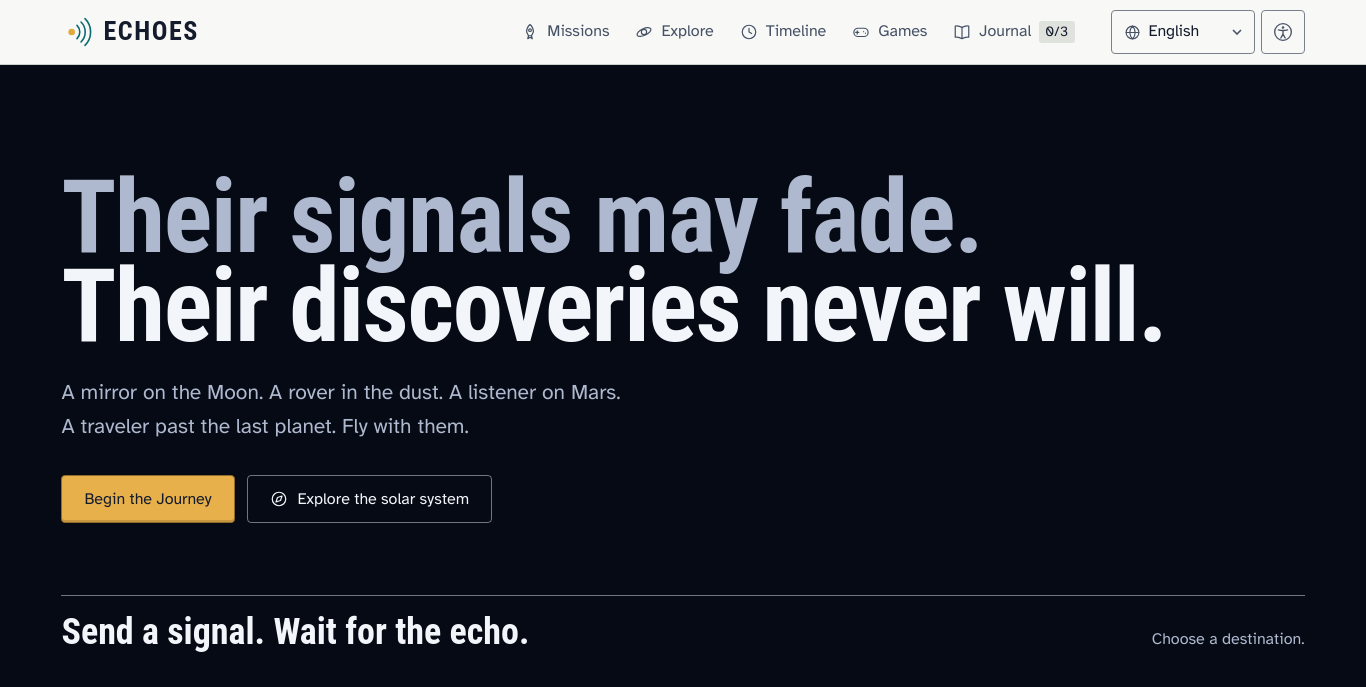
Test: switching language in the app › translates the whole page, sets <html lang> and remembers the choice
Check: the link "Begin the Journey" is shown, box [62,475,235,523]
Select "Русский" in the dropdown named "Language". click: (1197, 32)
box: [1146,11,1248,53]
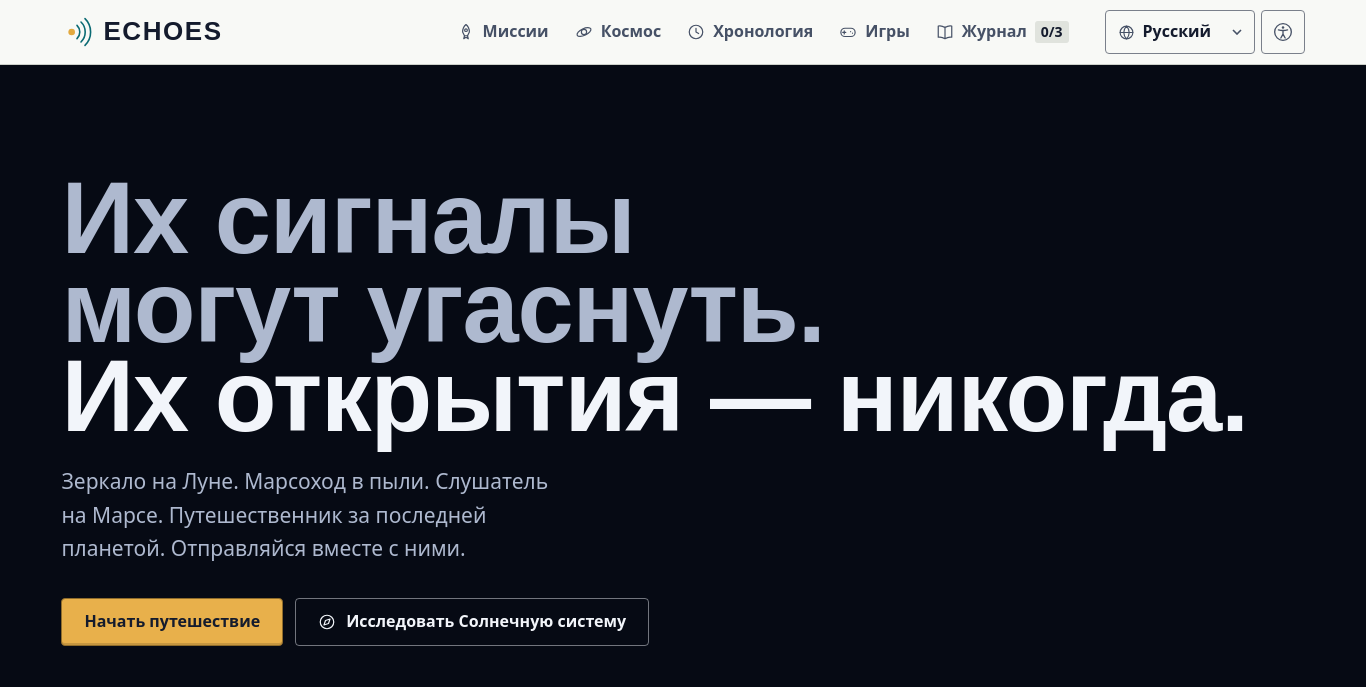
Check: the link "Начать путешествие" is shown, box [62,598,283,646]
Check: the link "Миссии" is shown, box [444,10,561,54]
Select "English" in the dropdown named "Язык". click: (1194, 32)
box: [1140,11,1248,53]
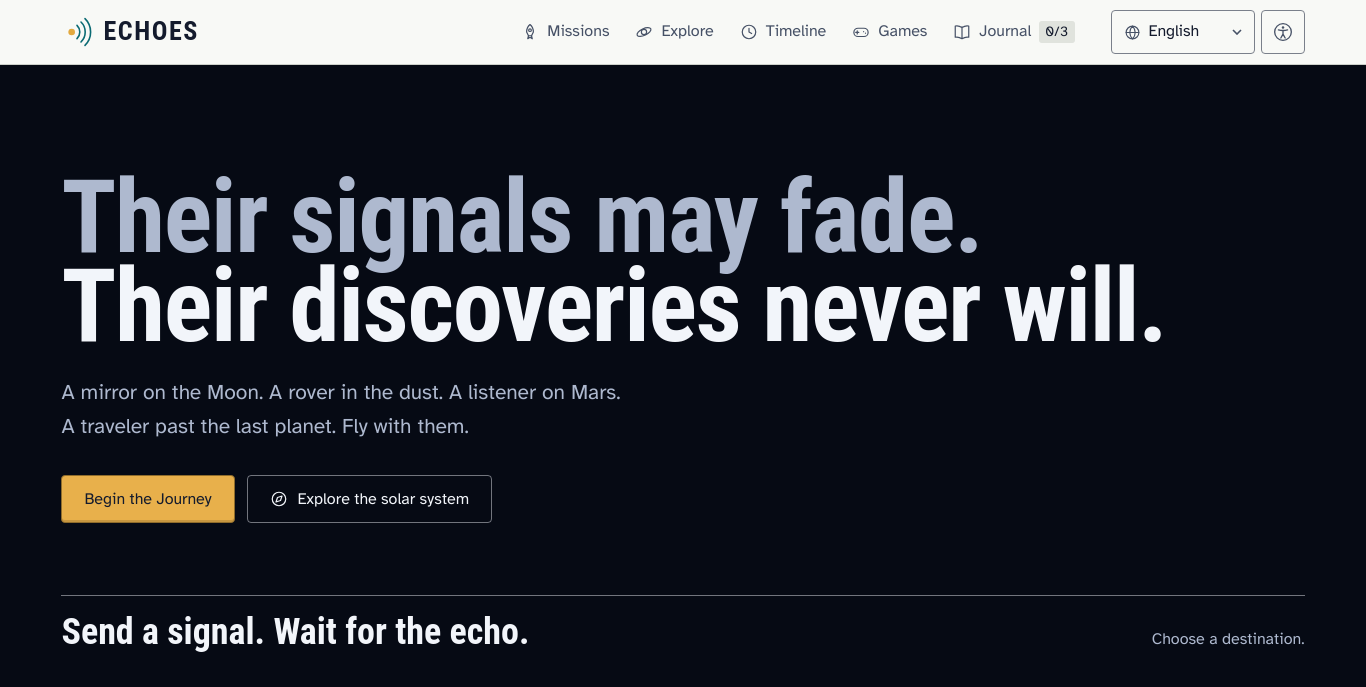
Check: the link "Begin the Journey" is shown, box [62,475,235,523]
